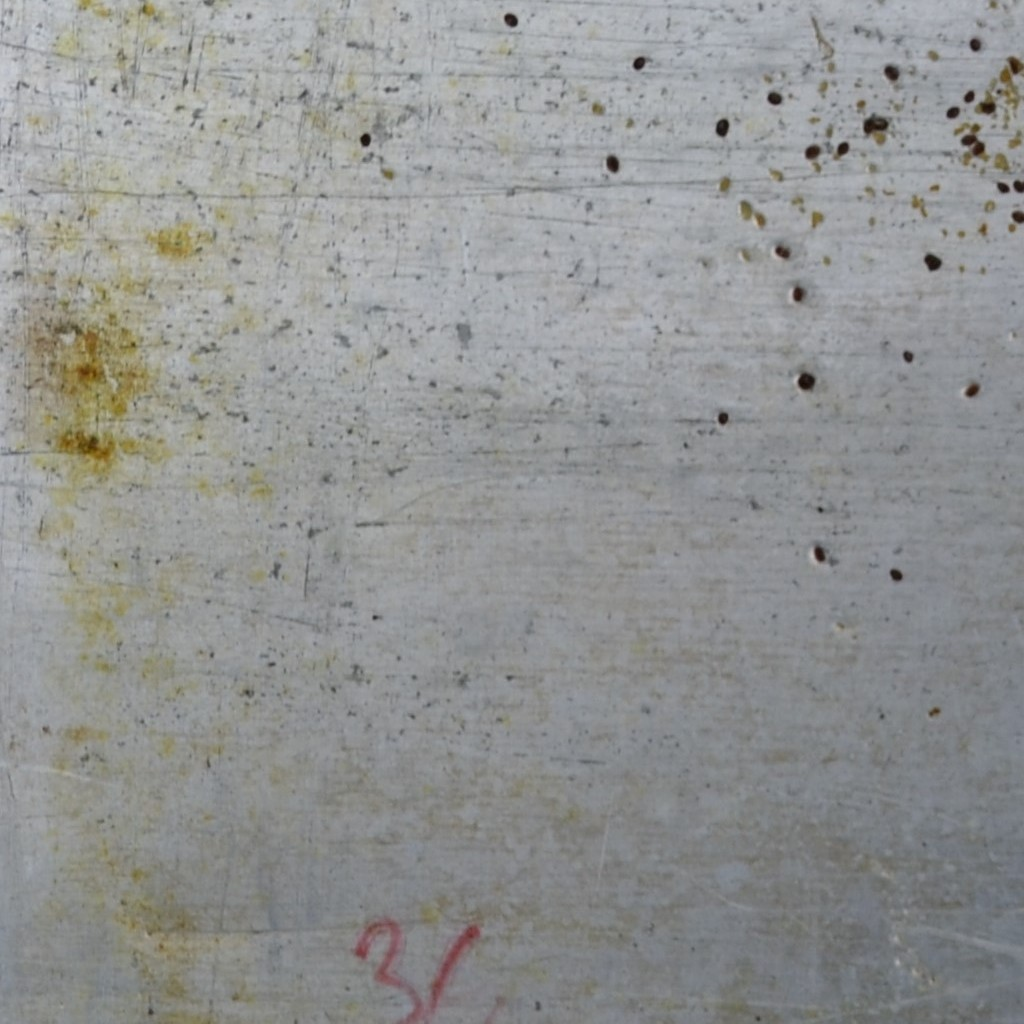varroa: (796, 369, 818, 393), (922, 248, 943, 273), (502, 8, 519, 34), (714, 115, 731, 139), (886, 564, 907, 583), (813, 539, 827, 566), (881, 63, 901, 81), (803, 142, 823, 160), (603, 153, 621, 173), (630, 53, 647, 74), (766, 89, 783, 108), (716, 407, 731, 427), (790, 282, 805, 302), (358, 129, 371, 149), (993, 179, 1010, 194), (836, 139, 851, 156), (1009, 207, 1023, 225), (872, 116, 890, 130), (945, 104, 960, 120), (862, 116, 874, 134), (968, 36, 981, 52), (963, 88, 975, 103), (1012, 177, 1023, 192)
